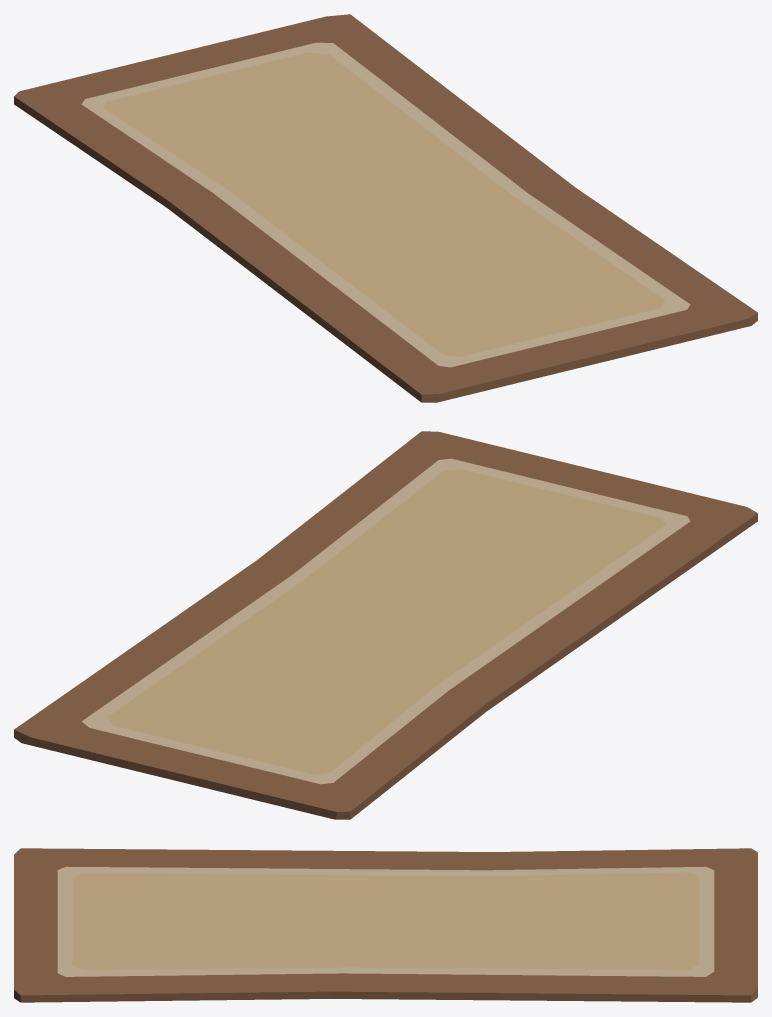
The model's file is SM_Prop_Rug_02B.obj.
3 views of the same model, one above another, from view 1: azimuth 30°, elevation 25°; view 2: azimuth 150°, elevation 25°; view 3: azimuth 270°, elevation 25° (orthographic). The views are drawn at different scales.
Parts seen in each view (by area): view 1: SM_Prop_Rug_02B_M_PolygonOffice_01_A; view 2: SM_Prop_Rug_02B_M_PolygonOffice_01_A; view 3: SM_Prop_Rug_02B_M_PolygonOffice_01_A.
Boxes of the visible parts, left/top/right/bottom form: SM_Prop_Rug_02B_M_PolygonOffice_01_A: left=14, top=14, right=757, bottom=402; SM_Prop_Rug_02B_M_PolygonOffice_01_A: left=14, top=431, right=757, bottom=819; SM_Prop_Rug_02B_M_PolygonOffice_01_A: left=14, top=848, right=757, bottom=1002.
Bounding box in the file's own units: 1.6 × 0.0367 × 3.41.
1 material, 1 textured.
